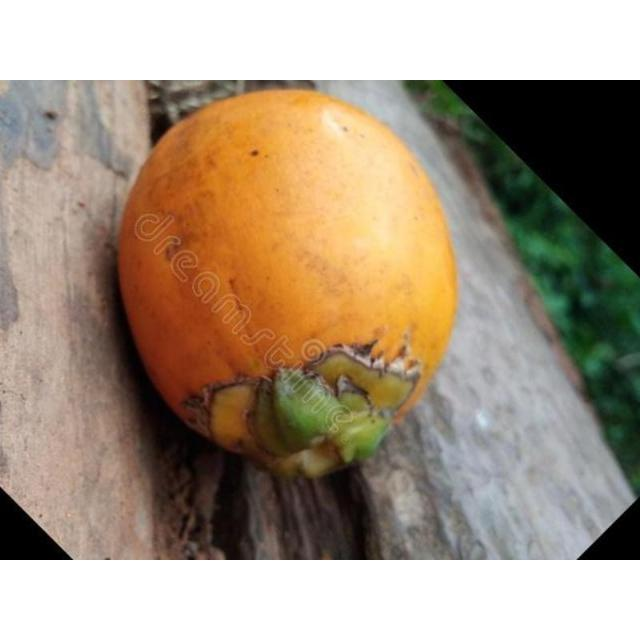good: (116, 89, 458, 482)
